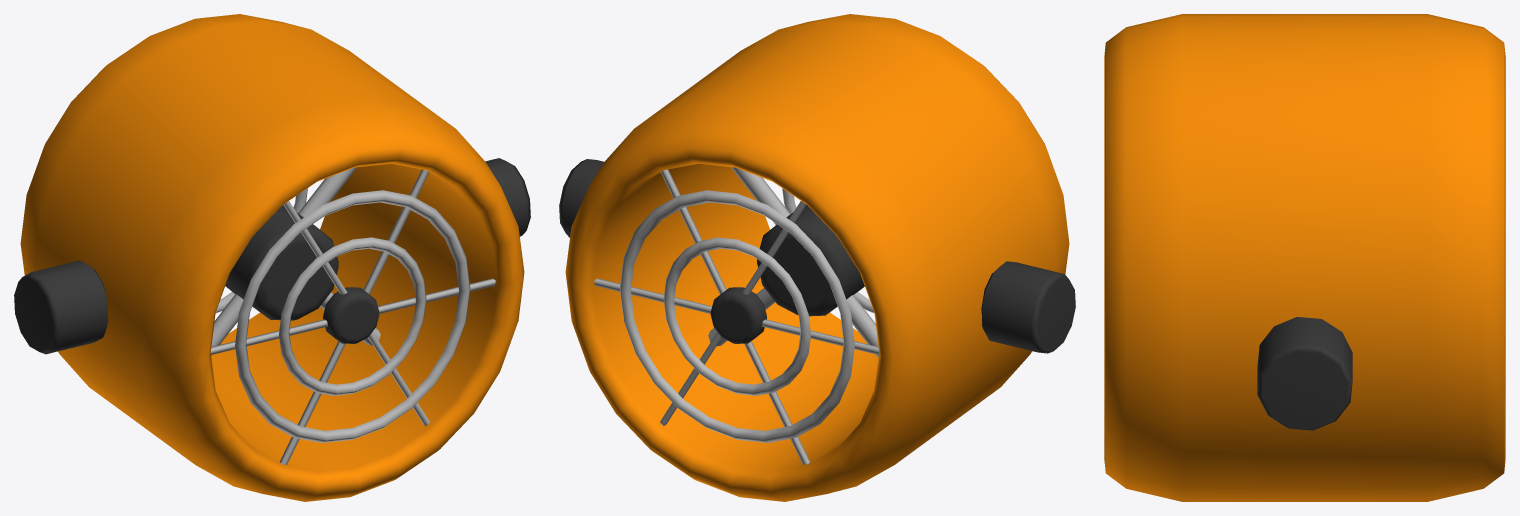
The model's file is obstacle_15_003.fbx.
The picture shows the model from 3 angles, left to right: view 1: azimuth 30°, elevation 25°; view 2: azimuth 150°, elevation 25°; view 3: azimuth 270°, elevation 25°; orthographic projection. The views are drawn at different scales.
Parts seen in each view (by area): view 1: obstacle_15_003; view 2: obstacle_15_003; view 3: obstacle_15_003.
Boxes of the visible parts, <box> form: obstacle_15_003: <box>14,14,530,501</box>; obstacle_15_003: <box>559,14,1075,501</box>; obstacle_15_003: <box>1104,14,1505,501</box>.
Size of the model in its own units: 437 by 275 by 336.
